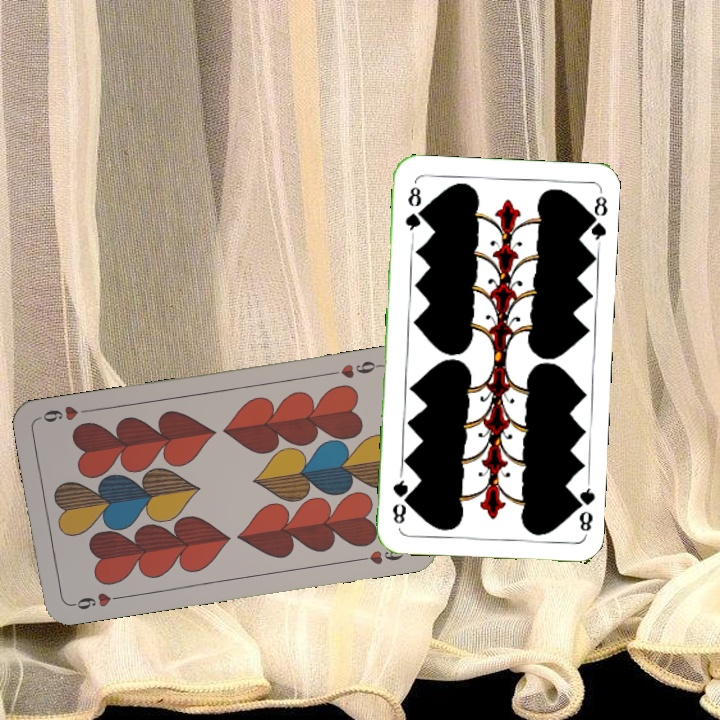G8: (569, 478, 597, 537), (401, 182, 424, 239)
H9: (66, 588, 125, 613), (323, 357, 382, 381)
